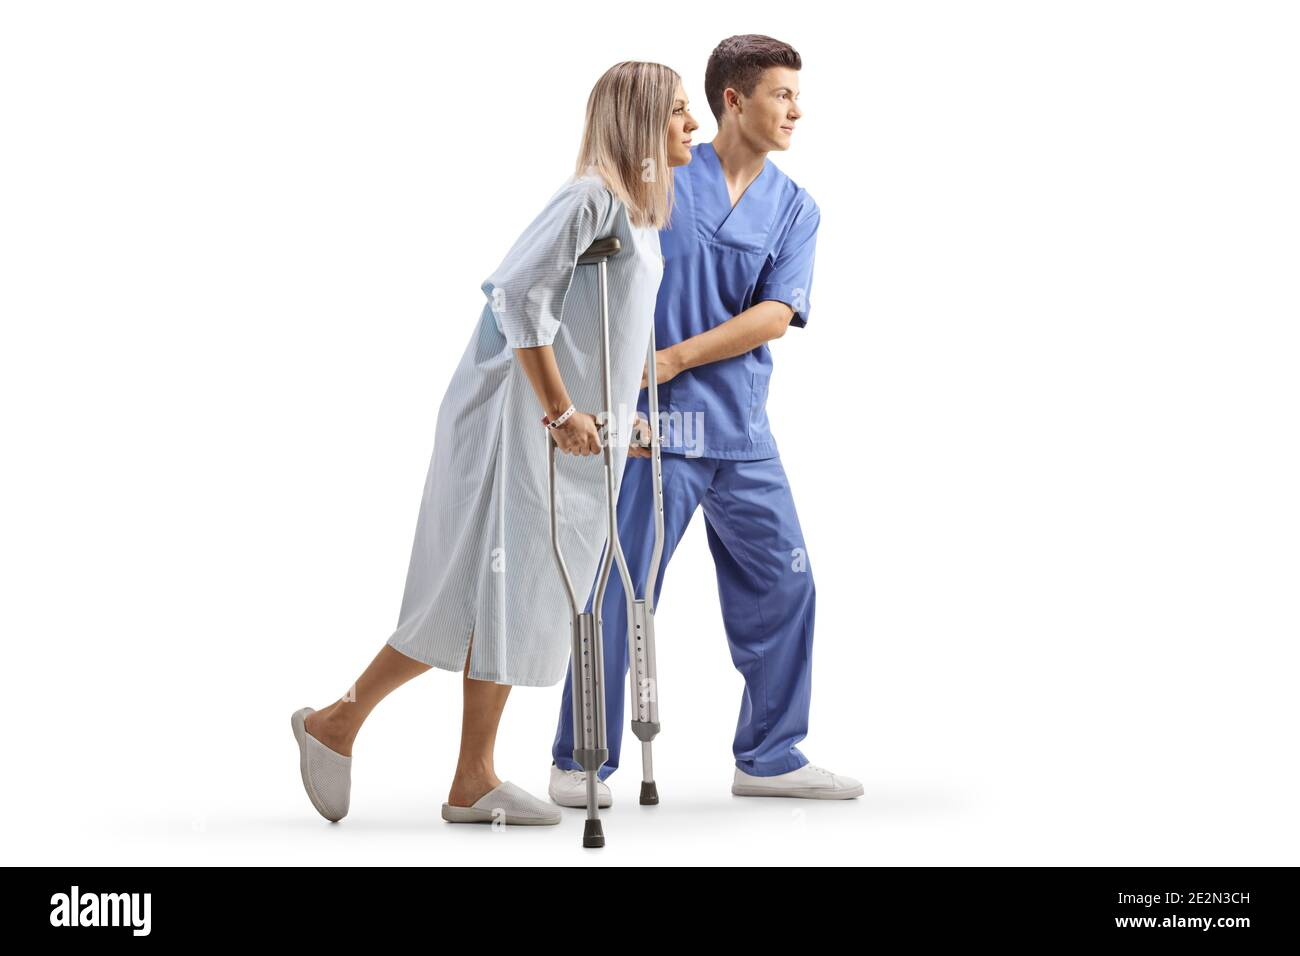crutches: (291, 58, 701, 853)
